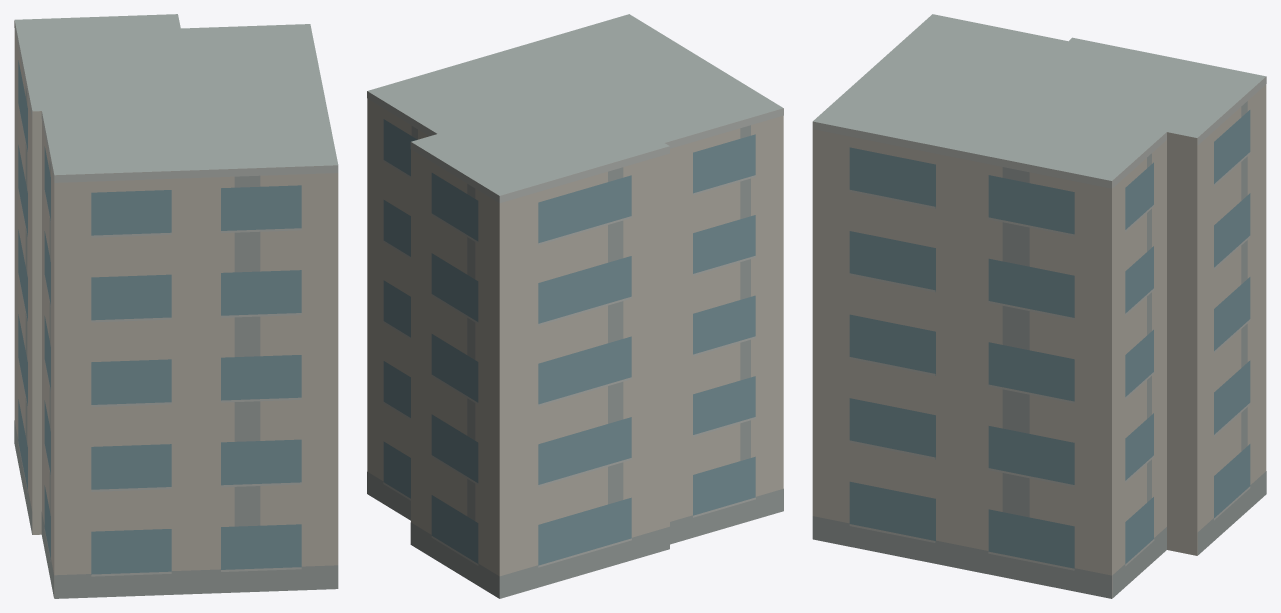
The model's file is residential-af1aef27-e3e8-4267-87fa-dee73ffbd9bc.glb.
3 views of the same model, side by side, from view 1: azimuth 30°, elevation 25°; view 2: azimuth 150°, elevation 25°; view 3: azimuth 270°, elevation 25° (orthographic). The views are drawn at different scales.
Visible parts, largest first — view 1: residential-af1aef27-e3e8-4267-87fa-dee73ffbd9bc.tmp; view 2: residential-af1aef27-e3e8-4267-87fa-dee73ffbd9bc.tmp; view 3: residential-af1aef27-e3e8-4267-87fa-dee73ffbd9bc.tmp.
Boxes of the visible parts, x1=… form: residential-af1aef27-e3e8-4267-87fa-dee73ffbd9bc.tmp: x1=14, y1=14, x2=338, y2=598; residential-af1aef27-e3e8-4267-87fa-dee73ffbd9bc.tmp: x1=367, y1=14, x2=783, y2=598; residential-af1aef27-e3e8-4267-87fa-dee73ffbd9bc.tmp: x1=812, y1=14, x2=1266, y2=598.
Size of the model in its own units: 11.41 by 13.3 by 13.1.
